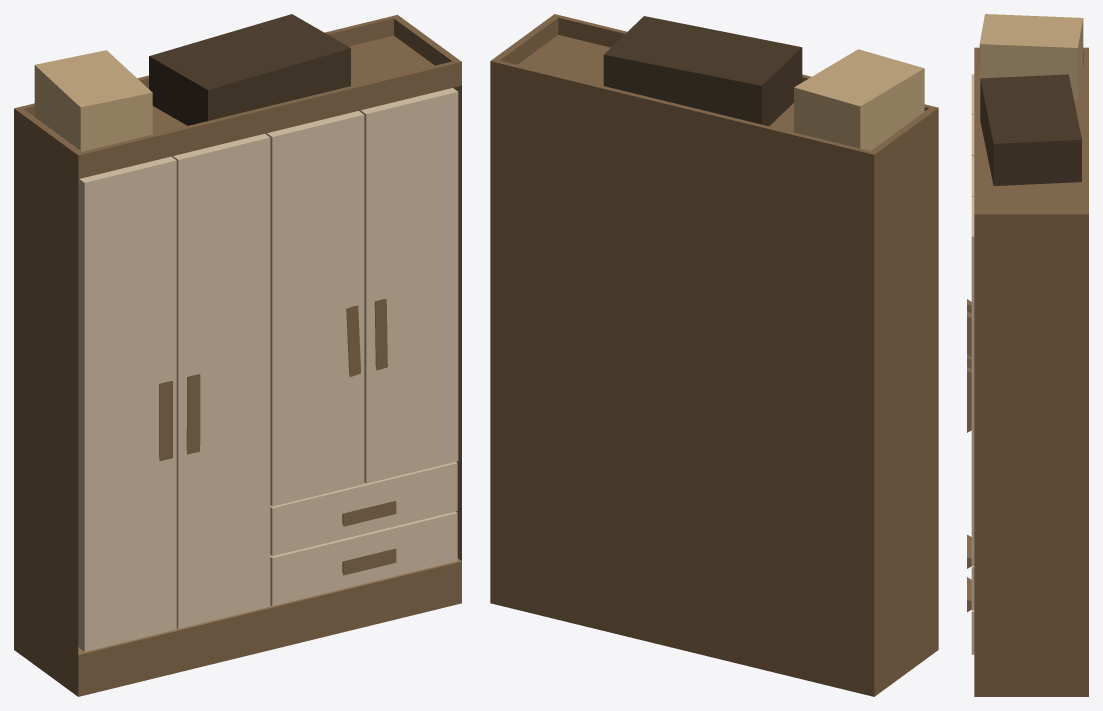
File: AvgCloset.glb
3 renders of one model, left to right at view 1: azimuth 30°, elevation 25°; view 2: azimuth 150°, elevation 25°; view 3: azimuth 270°, elevation 25°, orthographic. The views are drawn at different scales.
Parts seen in each view (by area): view 1: MidCloset; view 2: MidCloset; view 3: MidCloset.
Part boxes in pixels (x1,y1,x2,y2): MidCloset: [14, 14, 461, 696]; MidCloset: [490, 14, 938, 696]; MidCloset: [967, 14, 1088, 696].
Bounding box in the file's own units: 2 × 2.9 × 0.6169.
Materials: 1 (1 with a texture image).
